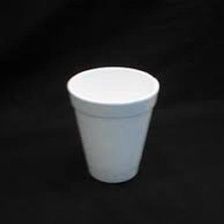paper_cup: (59, 62, 164, 186)
